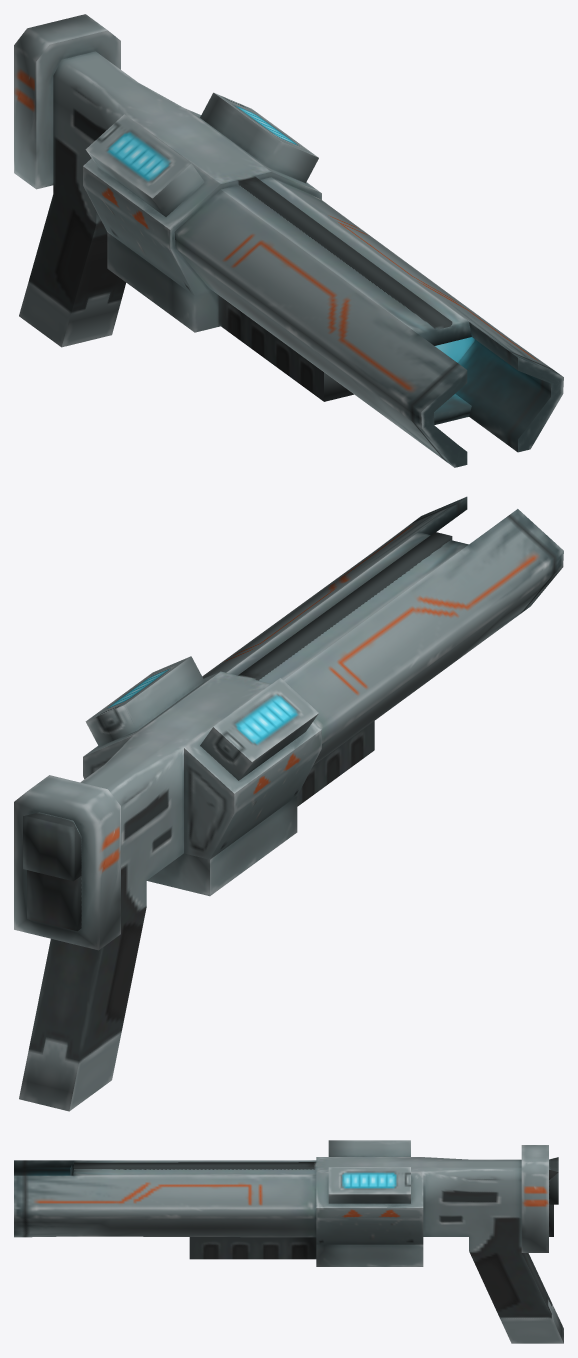
File: plasma_shotgun.obj
3 renders of one model, top to bottom at view 1: azimuth 30°, elevation 25°; view 2: azimuth 150°, elevation 25°; view 3: azimuth 270°, elevation 25°, orthographic. The views are drawn at different scales.
Parts seen in each view (by area): view 1: plasma_shotgun; view 2: plasma_shotgun; view 3: plasma_shotgun.
Boxes of the visible parts, bbox=[...] form: plasma_shotgun: bbox=[14, 14, 563, 467]; plasma_shotgun: bbox=[14, 496, 563, 1111]; plasma_shotgun: bbox=[14, 1140, 563, 1343].
Bounding box in the file's own units: 0.1607 × 0.2748 × 0.7497.
